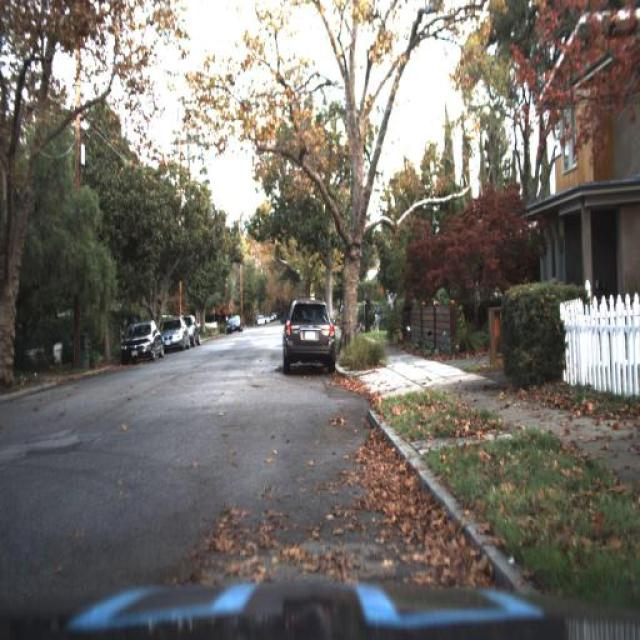car: (280, 298, 336, 374), (119, 317, 162, 365), (160, 316, 186, 353), (224, 311, 242, 334), (186, 317, 199, 348)
